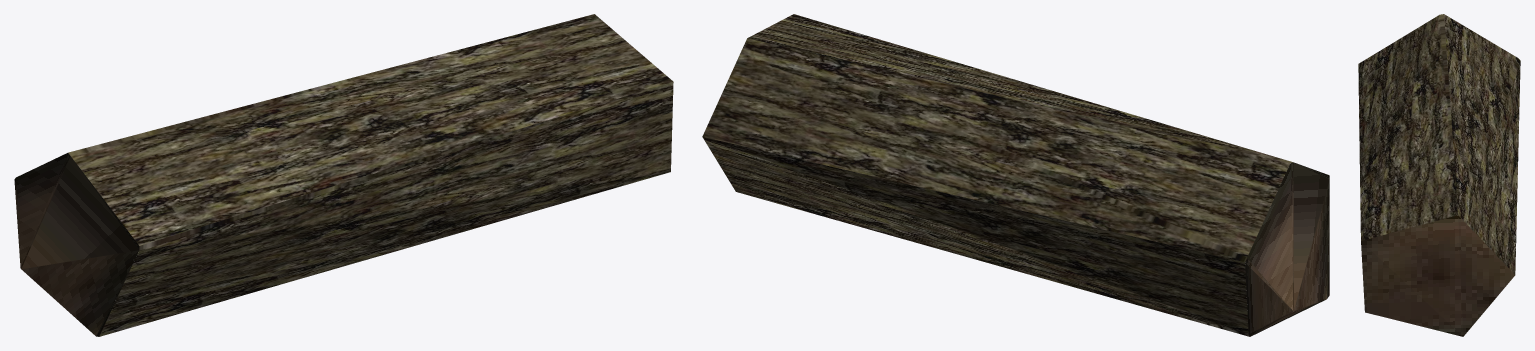
File: WOOD.glb
3 renders of one model, left to right at view 1: azimuth 30°, elevation 25°; view 2: azimuth 150°, elevation 25°; view 3: azimuth 270°, elevation 25°, orthographic. The views are drawn at different scales.
Visible parts, largest first — view 1: WOOD; view 2: WOOD; view 3: WOOD.
Boxes of the visible parts, <box> form: WOOD: <box>14,14,673,336</box>; WOOD: <box>702,14,1329,336</box>; WOOD: <box>1358,14,1520,336</box>.
Size of the model in its own units: 0.7953 by 0.2113 by 0.2505.
Materials: 3 (3 with a texture image).
